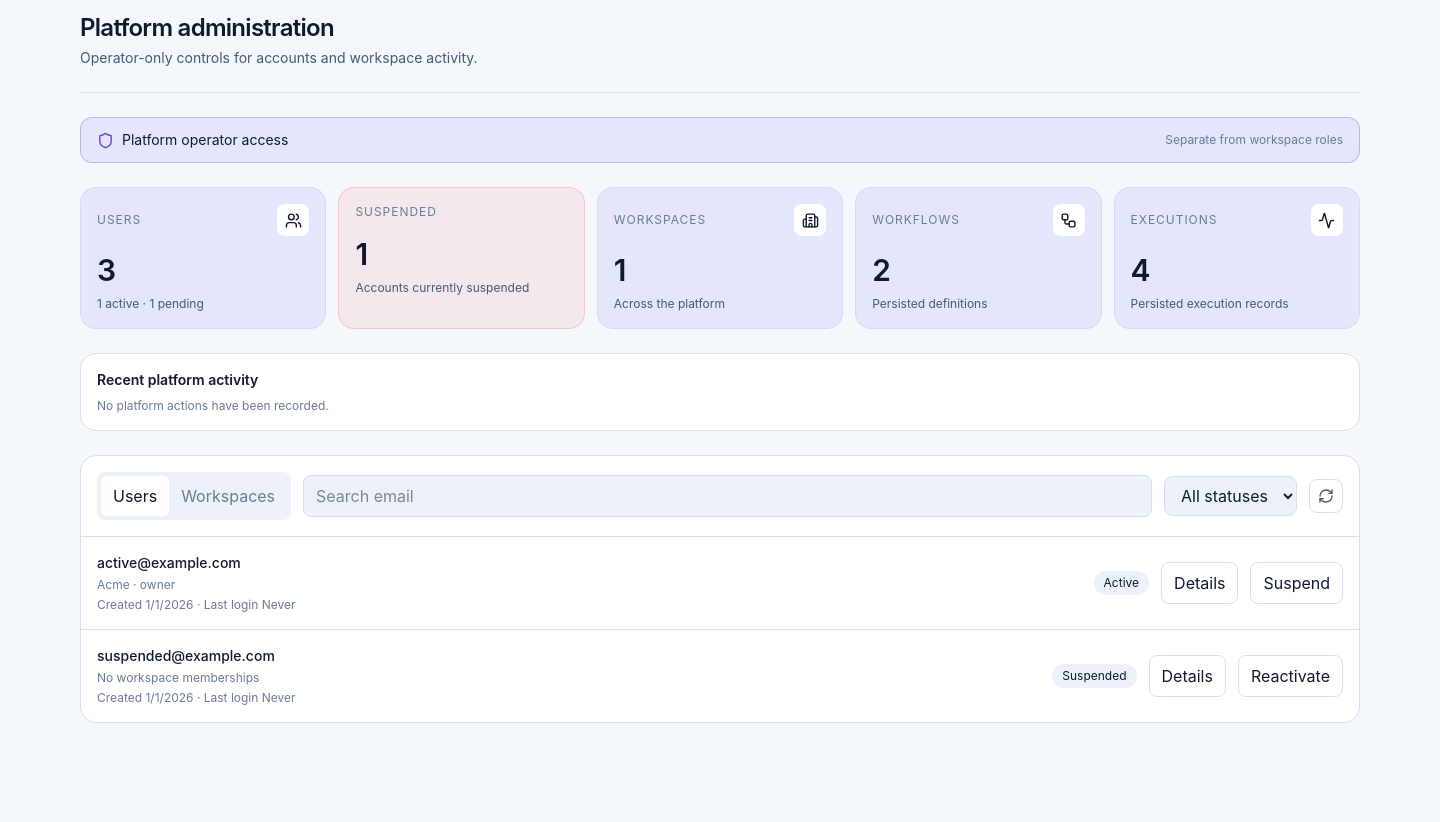
Scenario: PlatformAdminPage › filters users by email and account status
Expected: the text "active@example.com" is shown, [97,554,241,571]
Type "suspended" into the field labelled "Search" at (728, 496), box [303,475,1152,517]
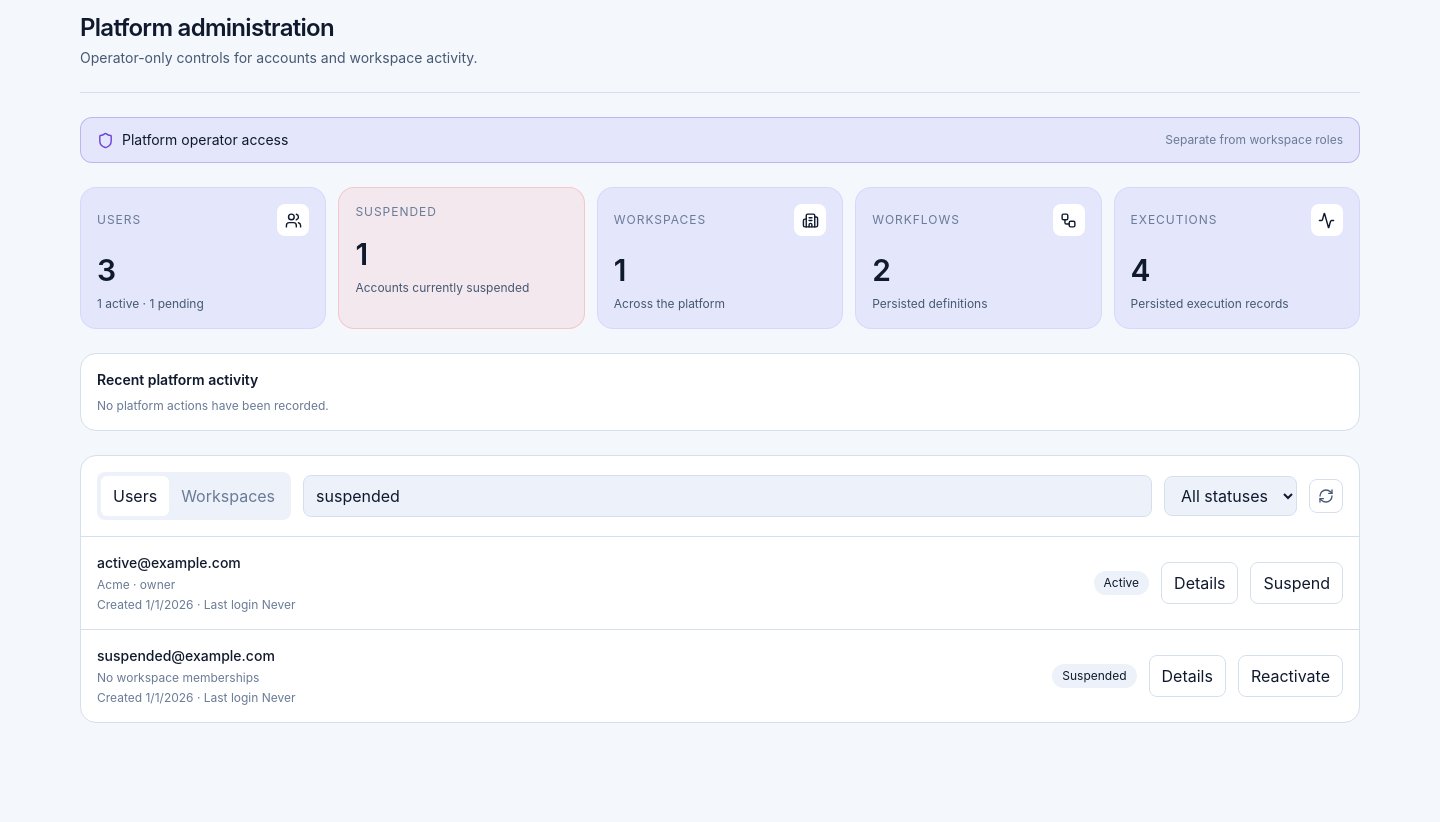
Expected: the text "suspended@example.com" is shown, [97,647,275,664]
Select "Suspended" in the dropdown named "account status" at (1230, 496), box [1164,476,1297,516]
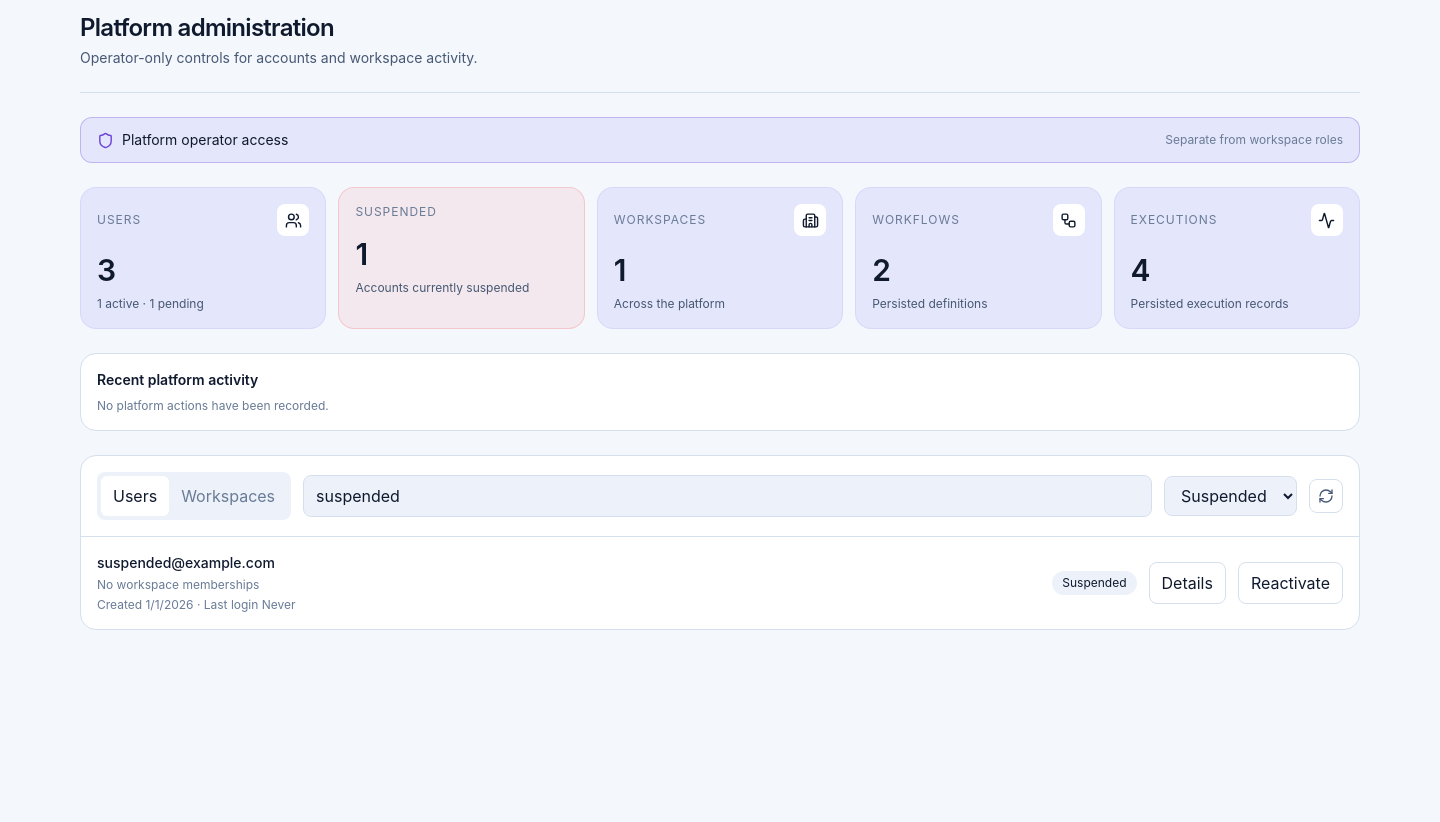
Expected: the text "active@example.com" is gone
